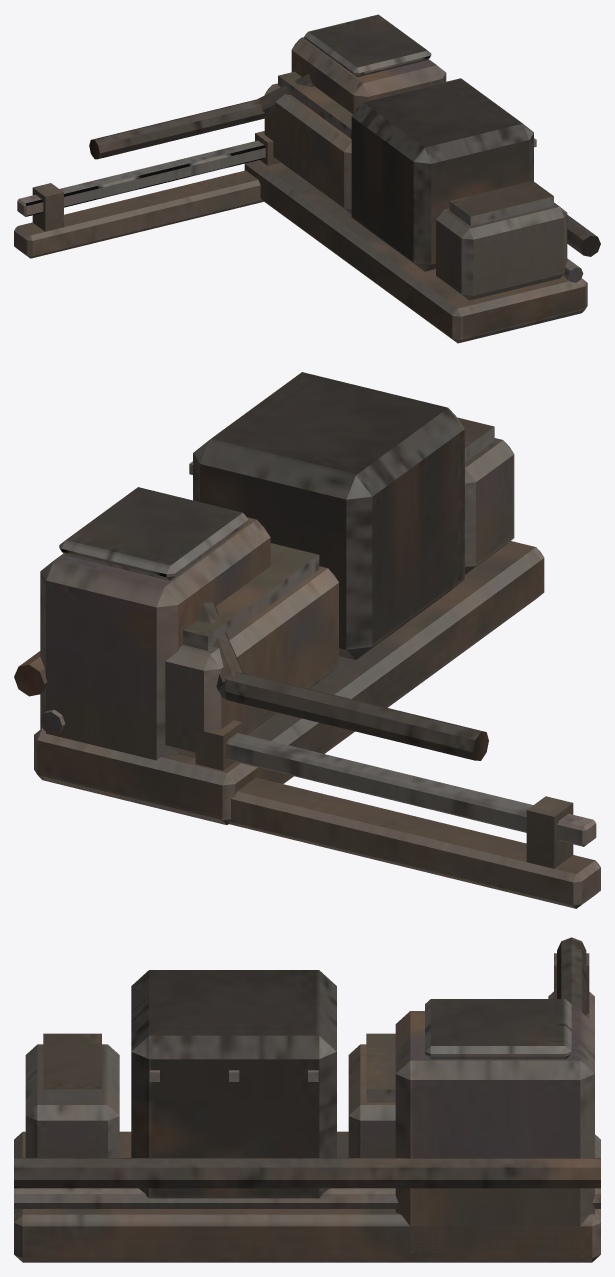
Rendered from cargo-bay-corner-ne.glb.
The picture shows the model from 3 angles, top to bottom: view 1: azimuth 30°, elevation 25°; view 2: azimuth 150°, elevation 25°; view 3: azimuth 270°, elevation 25°; orthographic projection. The views are drawn at different scales.
Parts seen in each view (by area): view 1: body; view 2: body; view 3: body.
Part boxes in pixels (x1,y1,x2,y2): body: (14,14,600,343); body: (14,372,600,908); body: (14,937,600,1262).
Size of the model in its own units: 2.03 by 0.82 by 2.
Materials: 1 (1 with a texture image).
